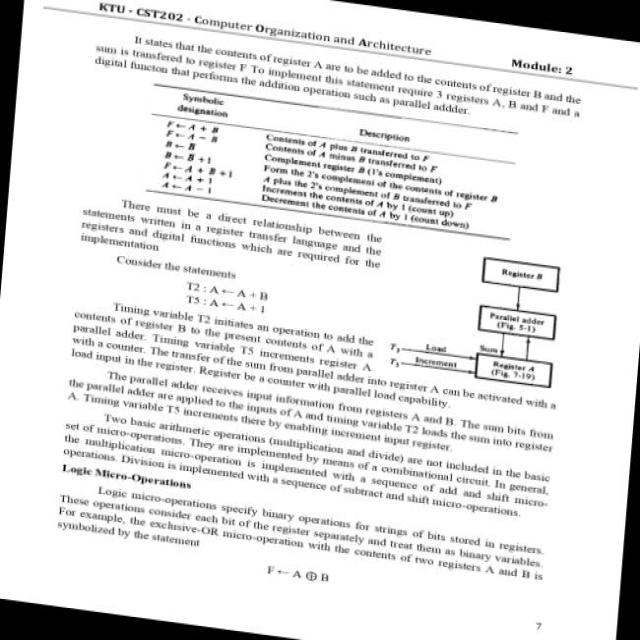Figure Detection - v3 Dataset Version2: (383, 233, 584, 399)
